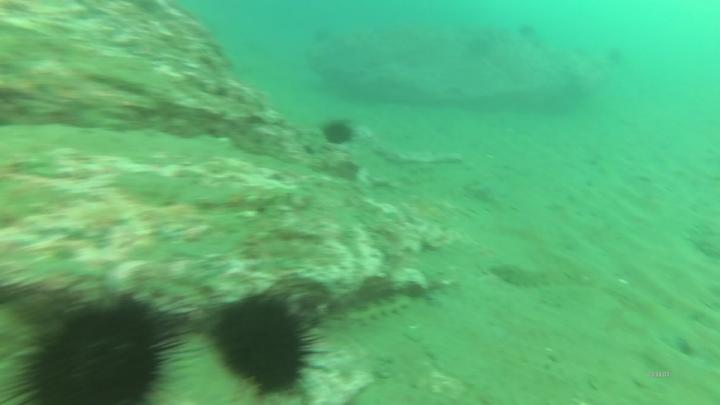echinus: (13, 285, 195, 405), (207, 273, 331, 402), (322, 115, 354, 148)
